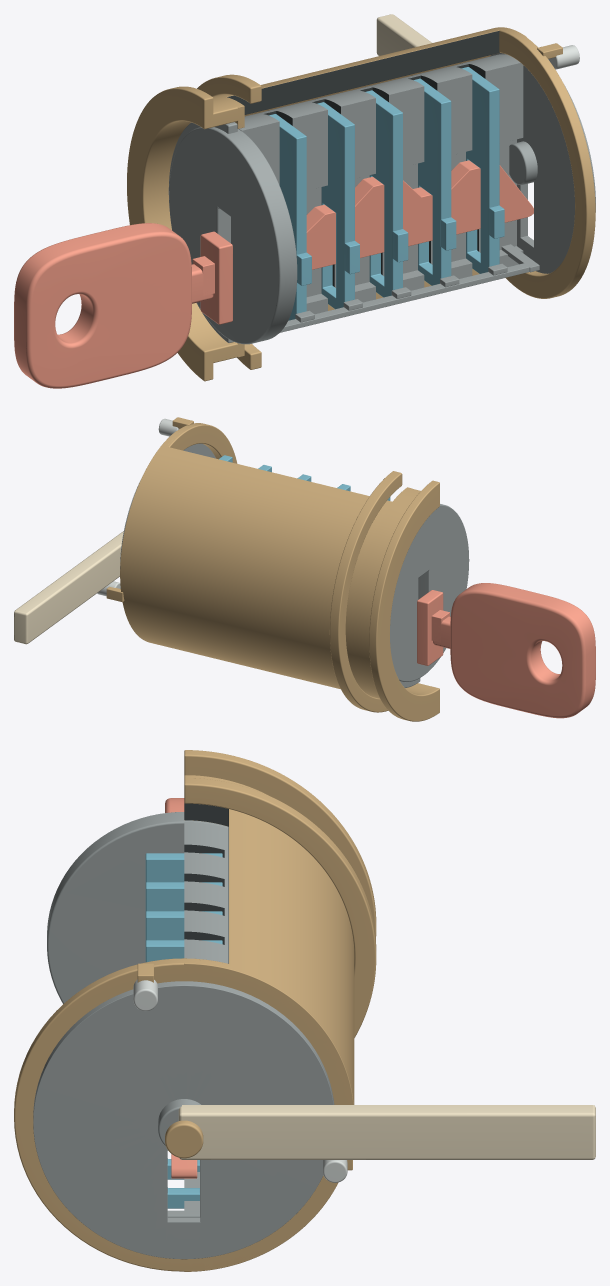
Rendered from wafer.glb.
3 renders of one model, top to bottom at view 1: azimuth 30°, elevation 25°; view 2: azimuth 150°, elevation 25°; view 3: azimuth 270°, elevation 25°, orthographic. The views are drawn at different scales.
Visible parts, largest first — view 1: Wafer key bow (inspection), Wafer plug / sectioned (inspection), Wafer plug nose / shoulder seat (inspection), Wafer key / five coded cuts (inspection), Rear axial retaining washer (inspection), Wafer fixed housing / sectioned (inspection), Fixed rear housing shoulder (inspection), Cylinder front mounting flange (inspection), Wafer 4 / coded window (inspection), Wafer 5 / coded window (inspection), Wafer 2 / coded window (inspection), Wafer 3 / coded window (inspection) (+13 smaller); view 2: Wafer fixed housing / sectioned (inspection), Wafer key bow (inspection), Wafer plug nose / shoulder seat (inspection), Cylinder front mounting flange (inspection), Quarter-turn cabinet cam (inspection), Rear clamping ring (inspection), Housing front neck cutaway (inspection), Wafer key shoulder (inspection), Fixed rear housing shoulder (inspection), Wafer key neck (inspection); view 3: Rear axial retaining washer (inspection), Wafer fixed housing / sectioned (inspection), Quarter-turn cabinet cam (inspection), Fixed rear housing shoulder (inspection), Wafer plug nose / shoulder seat (inspection), Rear clamping ring (inspection), Wafer plug / sectioned (inspection), Cylinder front mounting flange (inspection), Wafer 3 / coded window (inspection), Wafer 1 / coded window (inspection), Wafer 2 / coded window (inspection), Cam retaining screw (inspection) (+3 smaller).
Boxes of the visible parts, box(x1,y1,x2,y2) form: Wafer key bow (inspection): box(14, 223, 191, 388); Wafer plug / sectioned (inspection): box(239, 54, 523, 314); Wafer plug nose / shoulder seat (inspection): box(169, 127, 297, 344); Wafer key / five coded cuts (inspection): box(192, 160, 533, 295); Rear axial retaining washer (inspection): box(490, 53, 595, 273); Wafer fixed housing / sectioned (inspection): box(212, 27, 526, 357); Fixed rear housing shoulder (inspection): box(482, 29, 595, 298); Cylinder front mounting flange (inspection): box(127, 86, 213, 381); Wafer 4 / coded window (inspection): box(413, 78, 451, 285); Wafer 5 / coded window (inspection): box(461, 67, 499, 273); Wafer 2 / coded window (inspection): box(317, 102, 354, 309); Wafer 3 / coded window (inspection): box(365, 90, 402, 297); Wafer fixed housing / sectioned (inspection): box(120, 431, 411, 698); Wafer key bow (inspection): box(450, 583, 595, 718); Wafer plug nose / shoulder seat (inspection): box(390, 504, 469, 682); Cylinder front mounting flange (inspection): box(369, 480, 439, 721); Quarter-turn cabinet cam (inspection): box(14, 531, 123, 644); Rear clamping ring (inspection): box(329, 471, 402, 712); Housing front neck cutaway (inspection): box(352, 488, 432, 698); Wafer key shoulder (inspection): box(417, 590, 443, 665); Fixed rear housing shoulder (inspection): box(167, 423, 237, 463); Wafer key neck (inspection): box(433, 616, 450, 648); Rear axial retaining washer (inspection): box(33, 981, 334, 1259); Wafer fixed housing / sectioned (inspection): box(184, 803, 354, 1271); Quarter-turn cabinet cam (inspection): box(178, 1105, 595, 1159); Fixed rear housing shoulder (inspection): box(14, 958, 351, 1271); Wafer plug nose / shoulder seat (inspection): box(47, 812, 228, 1003); Rear clamping ring (inspection): box(184, 778, 376, 1037); Wafer plug / sectioned (inspection): box(184, 822, 228, 1217); Cylinder front mounting flange (inspection): box(184, 750, 376, 938); Wafer 3 / coded window (inspection): box(145, 911, 222, 1150); Wafer 1 / coded window (inspection): box(145, 853, 222, 882); Wafer 2 / coded window (inspection): box(145, 882, 222, 911); Cam retaining screw (inspection): box(165, 1120, 203, 1158).
Size of the model in its own units: 5.67 by 2.8 by 4.24.
